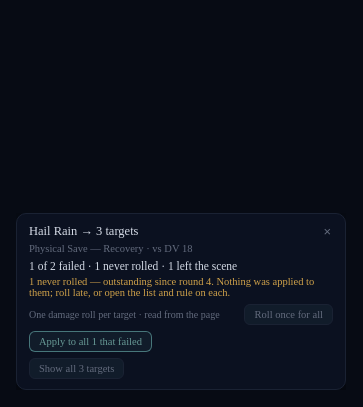
Scenario: VttResolutionCard with many targets on one card › dates the lapse from the rows it is still counting
This screenshot has width=363, height=407.
Expected: the text "1 never rolled — outstanding since round 4" is shown, x1=29 y1=276 x2=333 y2=298
Expected: the text "1 of 2 failed · 1 never rolled · 1 left the scene" is shown, x1=29 y1=260 x2=237 y2=272
Click the button "Show all 3 targets" at (77, 368), box x1=29 y1=358 x2=124 y2=379
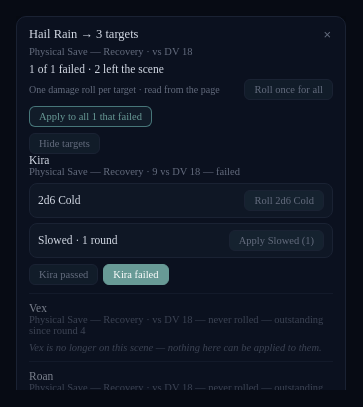
Expected: the text "1 of 1 failed · 2 left the scene" is shown, x1=29 y1=63 x2=164 y2=75
